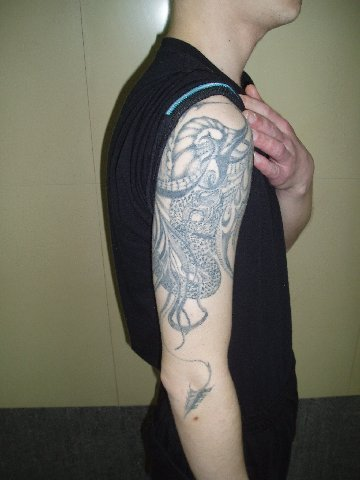tatu6_drakon: (145, 107, 266, 408)
